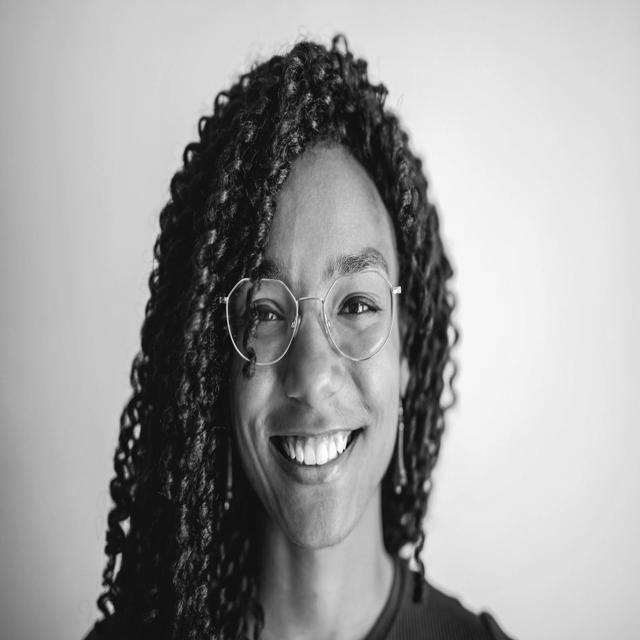Happiness: (227, 145, 405, 555)
